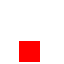square: (19, 41, 39, 61)
